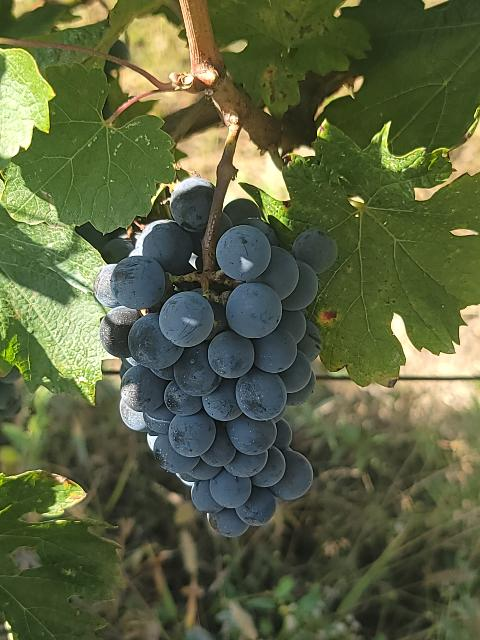grapes: (95, 178, 338, 538)
